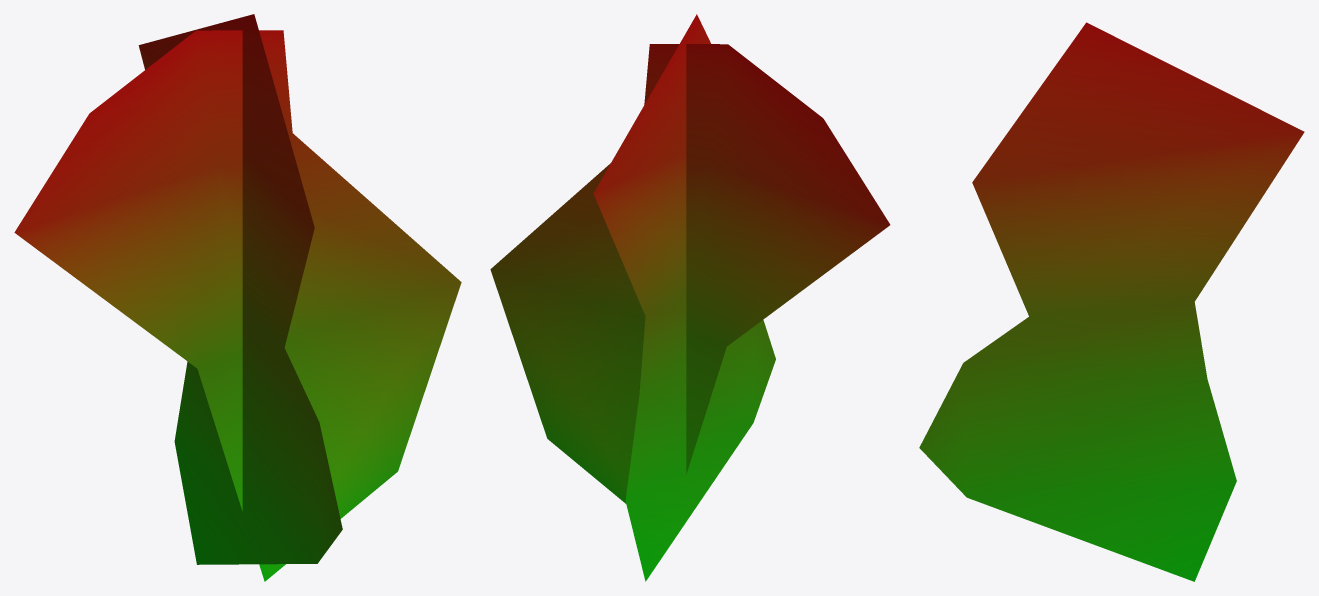
The model's file is Downy Willow_LOD6_Var7_wknlfiuqx.fbx.
The picture shows the model from 3 angles, left to right: view 1: azimuth 30°, elevation 25°; view 2: azimuth 150°, elevation 25°; view 3: azimuth 270°, elevation 25°; orthographic projection. The views are drawn at different scales.
Parts seen in each view (by area): view 1: _tg95_Var7_LOD6; view 2: _tg95_Var7_LOD6; view 3: _tg95_Var7_LOD6.
Boxes of the visible parts, left/top/right/bottom form: _tg95_Var7_LOD6: left=14, top=14, right=461, bottom=581; _tg95_Var7_LOD6: left=490, top=14, right=890, bottom=581; _tg95_Var7_LOD6: left=919, top=22, right=1304, bottom=581.
Size of the model in its own units: 136 by 172 by 107.
